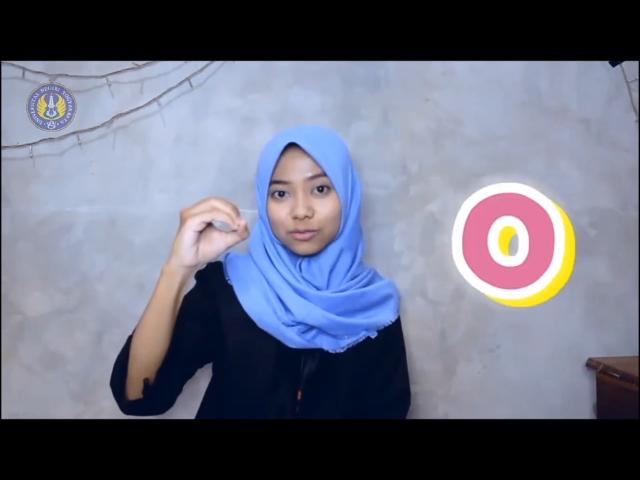O: (174, 194, 252, 266)
